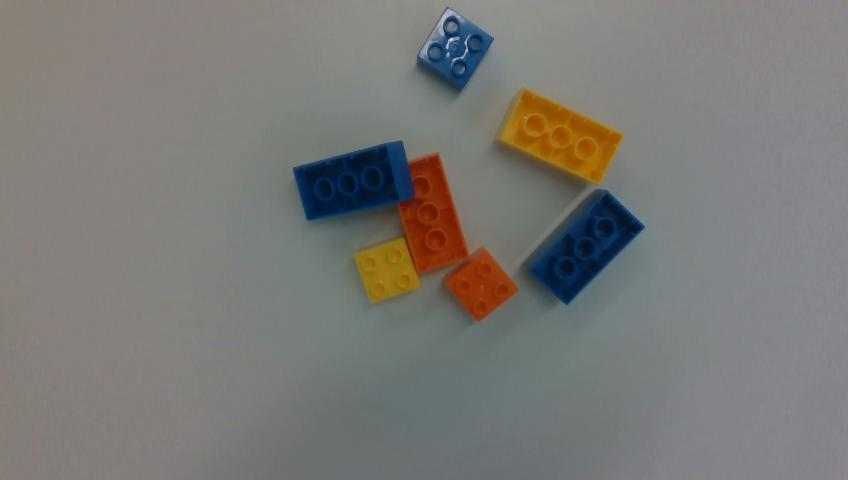2x2_blue: (418, 7, 493, 90)
2x2_orange: (446, 247, 517, 321)
2x2_yellow: (355, 237, 420, 302)
4x2_blue: (525, 190, 644, 304), (293, 141, 414, 220)
4x2_orange: (397, 154, 468, 274)
4x2_yellow: (497, 89, 622, 183)
